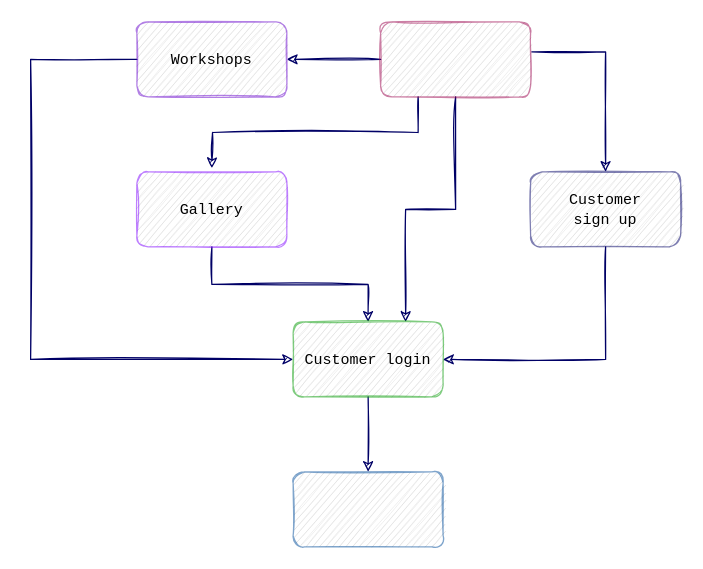
The diagram is 703 pixels wide and 569 high, and some of its shapes have lost their labels. The shapes that lost their labels are listed below. From the top down, each one's box as (x1, y1, x2, y2) in pixels, then its label:
(379, 21, 531, 97): Base Page
(292, 471, 443, 547): Exclusive
